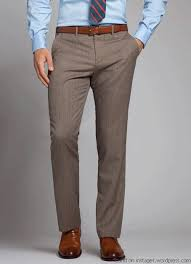F_belt: (51, 19, 134, 41)
